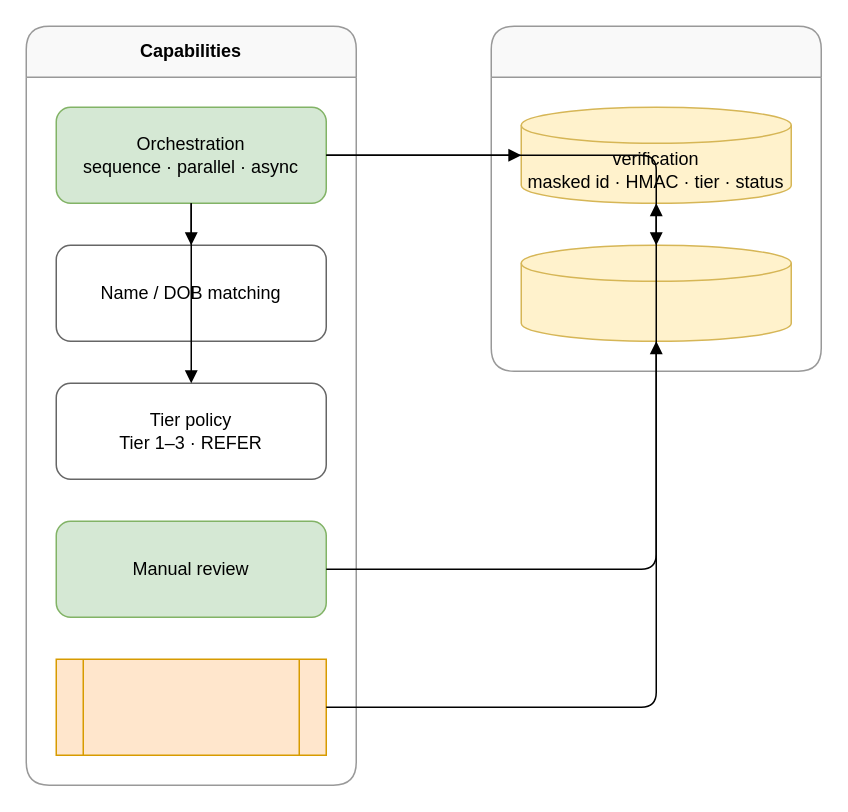
The diagram is 848 pixels wide and 812 high, and some of its shapes have lost their labels. Each missing label, with the box of its shape:
Data: (490, 25, 821, 371)
Data minimisation mask · purge: (55, 658, 326, 755)
verification_event append-only: (520, 244, 791, 341)
